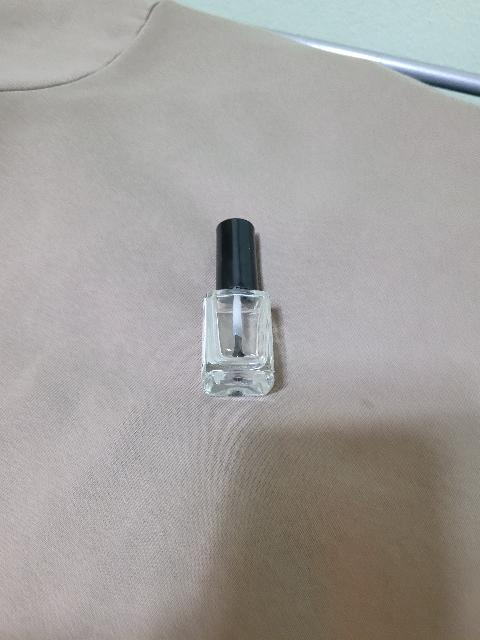Cam: (189, 290, 288, 409)
Plastik: (205, 217, 274, 291)
